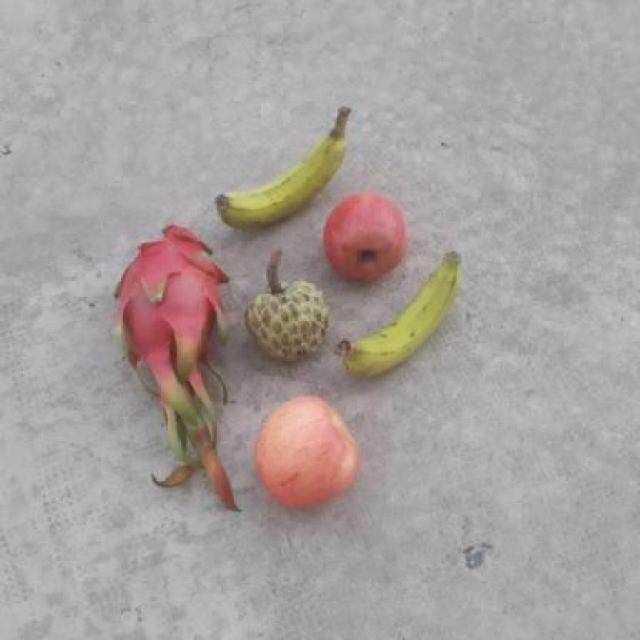apple: (238, 390, 364, 521), (323, 182, 403, 286)
banana: (336, 243, 482, 386), (218, 126, 344, 223)
dragon fruit: (105, 220, 230, 358)
sugar apple: (241, 276, 337, 370)
